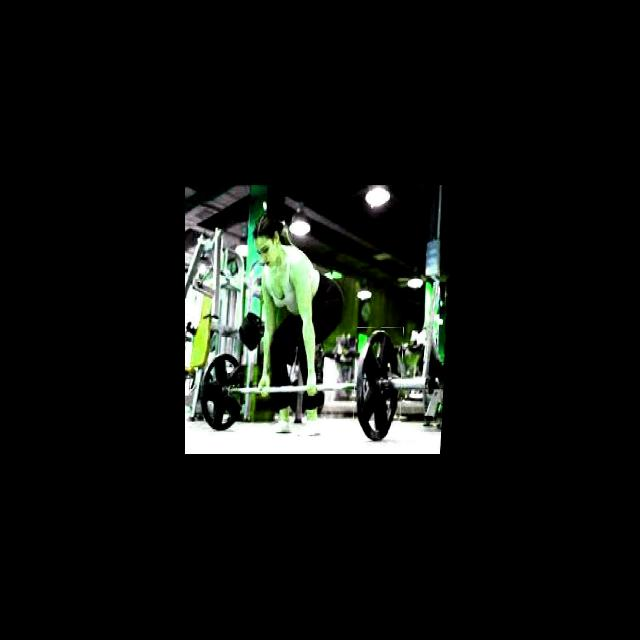barbell: (354, 327, 406, 441)
